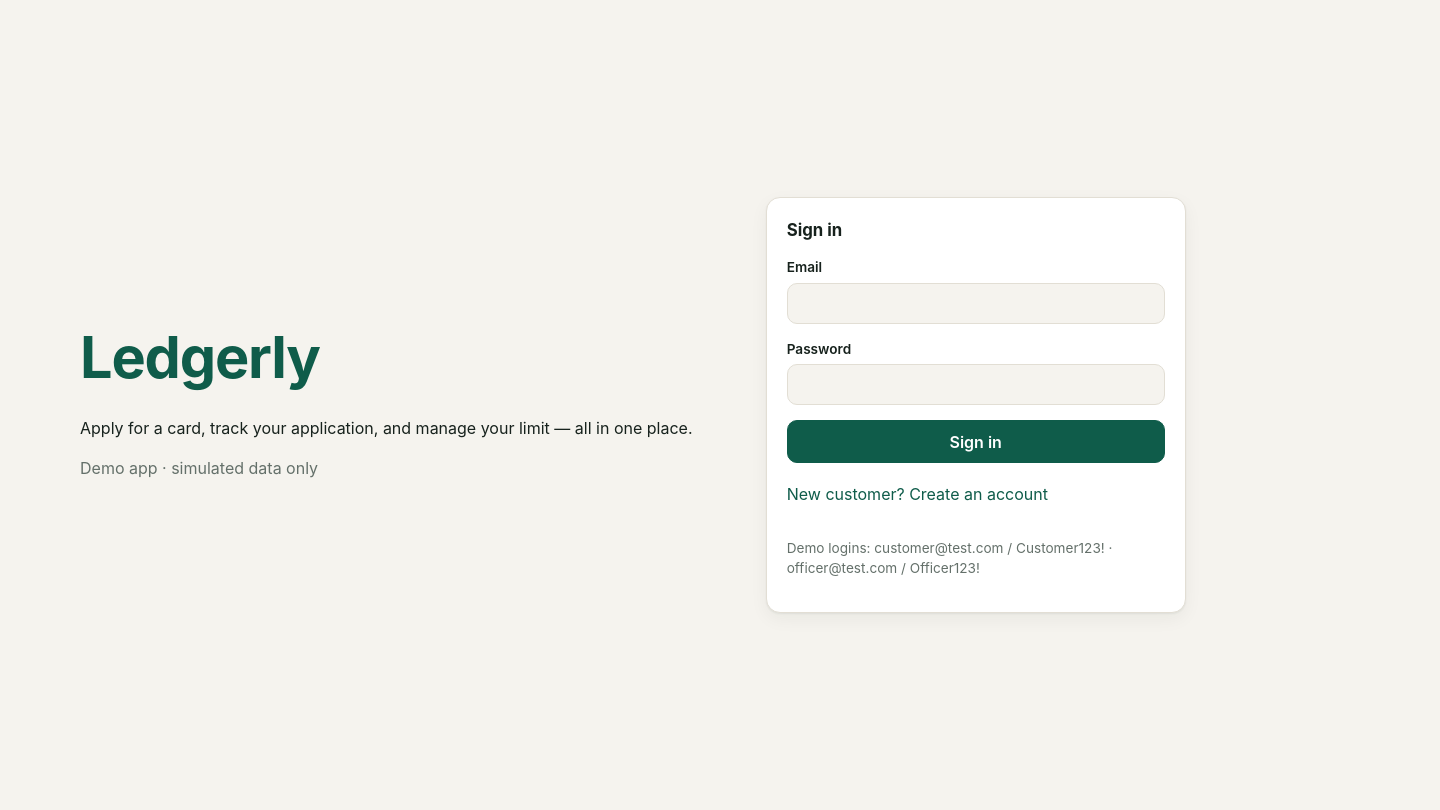
Test: Credit Officer portal › officer logs in and lands on the Credit Team dashboard
The image size is (1440, 810).
Type "officer@test.com" into the field labelled "Email" at (976, 303), box [787, 283, 1165, 324]
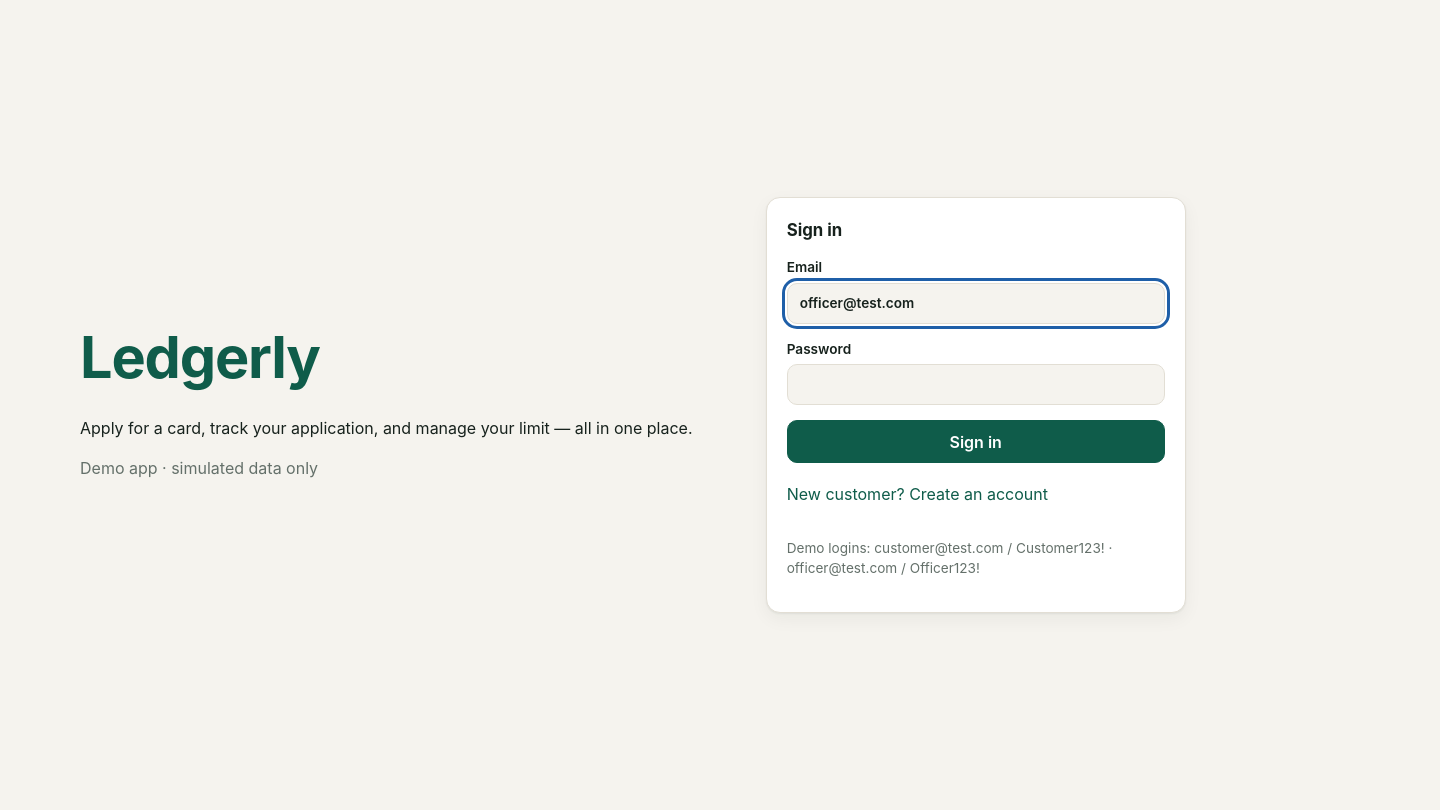
Type "Officer123!" into the password field labelled "Password" at (976, 385), box [787, 364, 1165, 405]
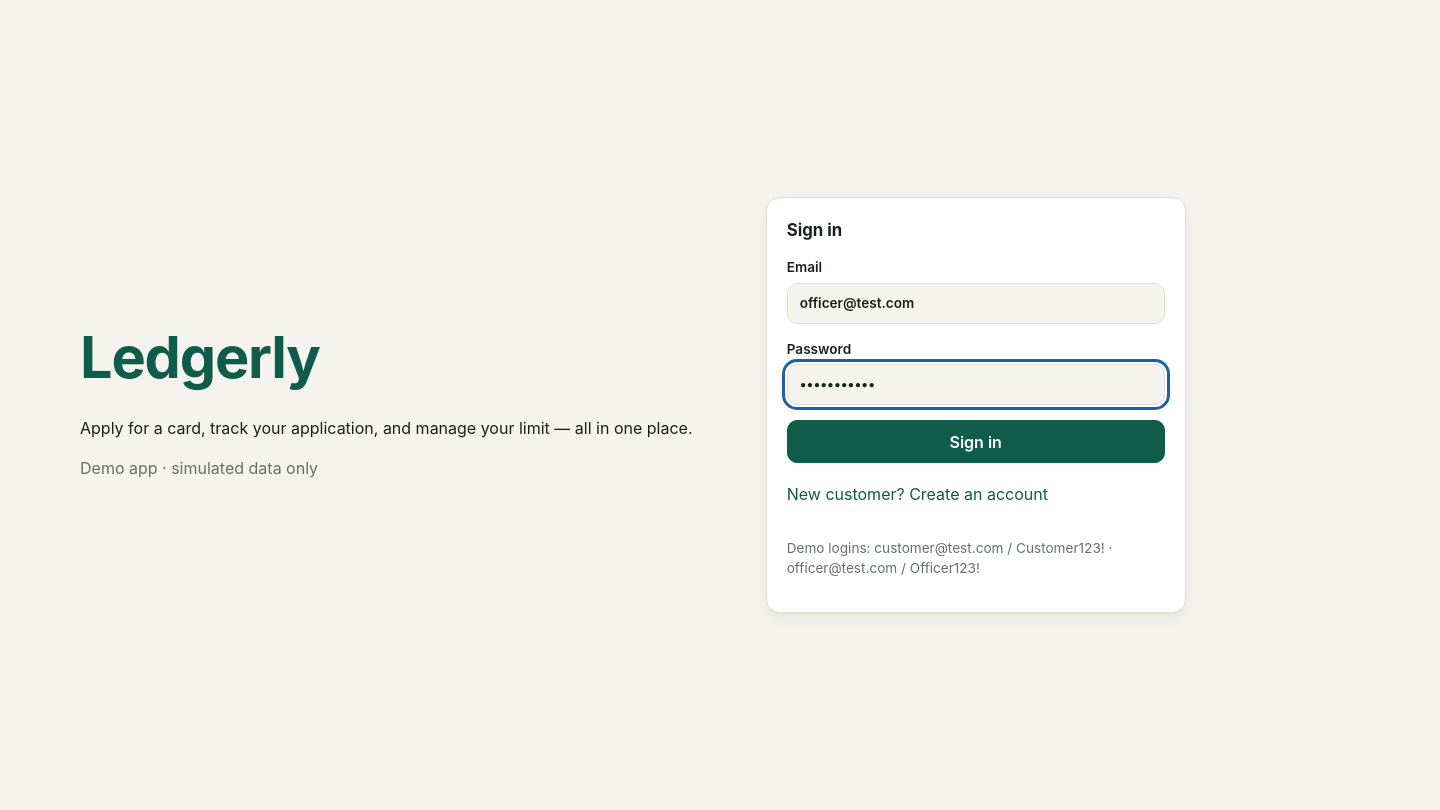
Click the button "Sign in" at (976, 442), box [787, 420, 1165, 463]
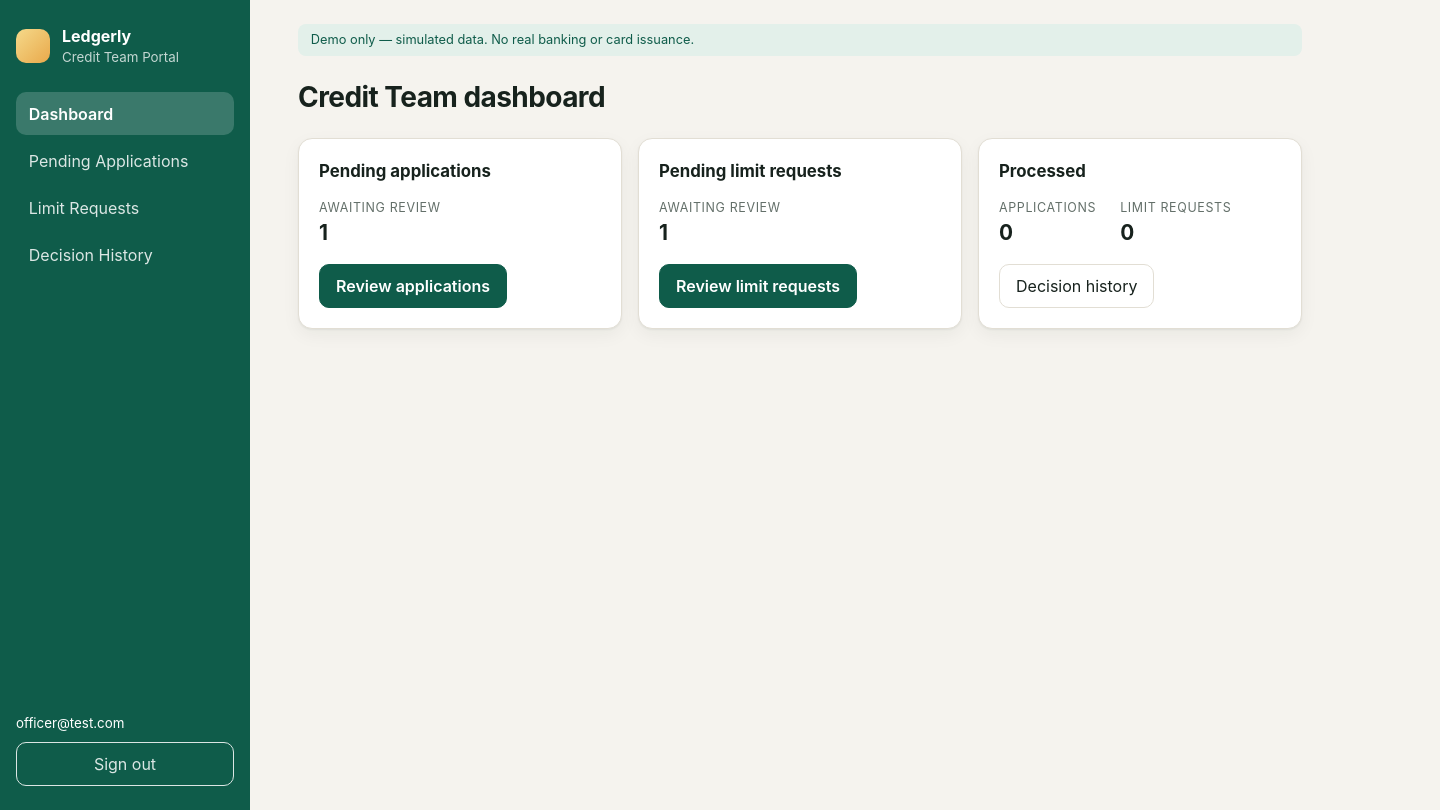
Now the text "Credit Team Portal" is shown, box [62, 48, 179, 68]
Now the heading "Credit Team dashboard" is shown, box [298, 80, 605, 114]
